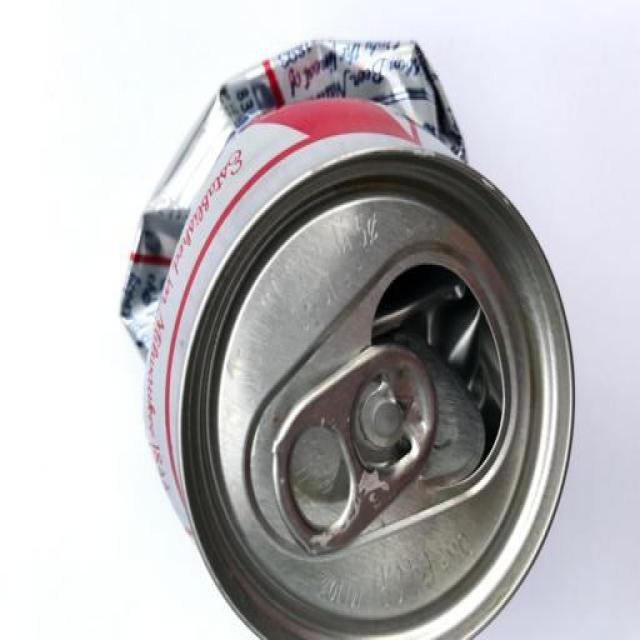metel: (116, 14, 571, 640)
